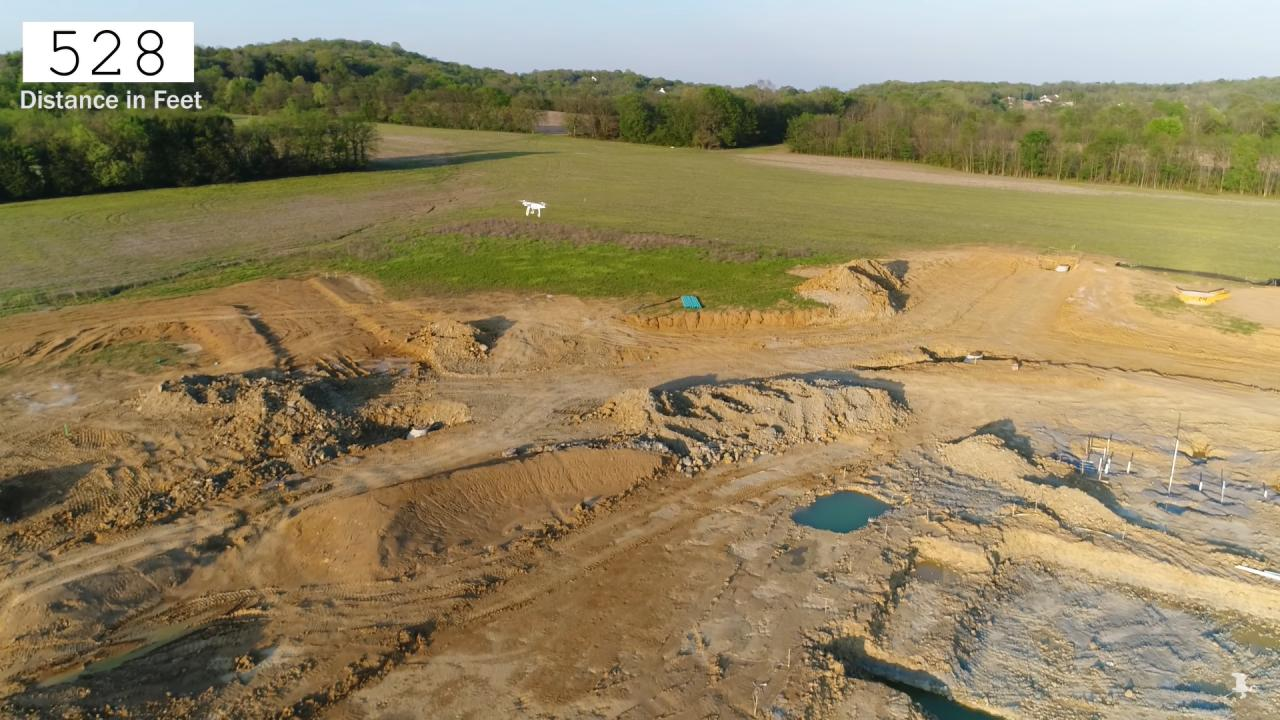Drone: (510, 190, 557, 228)
